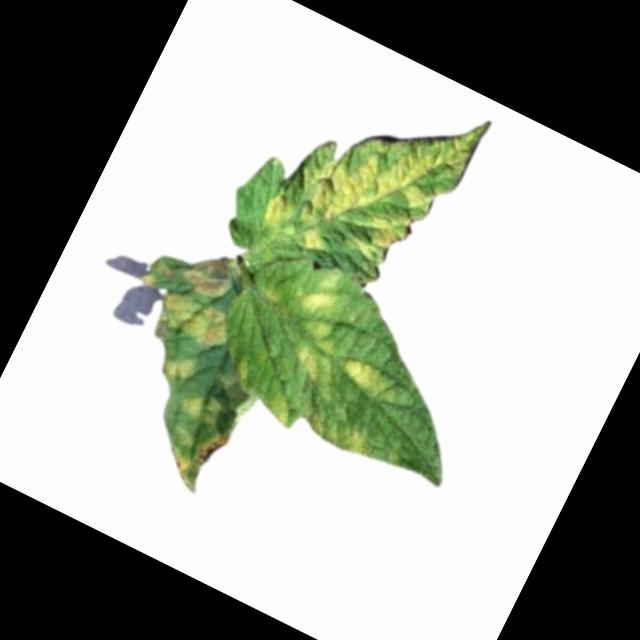Leaf_Mold: (259, 50, 491, 297), (144, 283, 238, 367), (150, 413, 230, 499), (177, 240, 241, 303), (295, 258, 349, 320), (278, 336, 335, 389), (177, 385, 224, 428), (295, 311, 343, 353), (258, 384, 302, 429), (339, 354, 383, 394), (155, 348, 196, 390), (339, 425, 369, 456)
